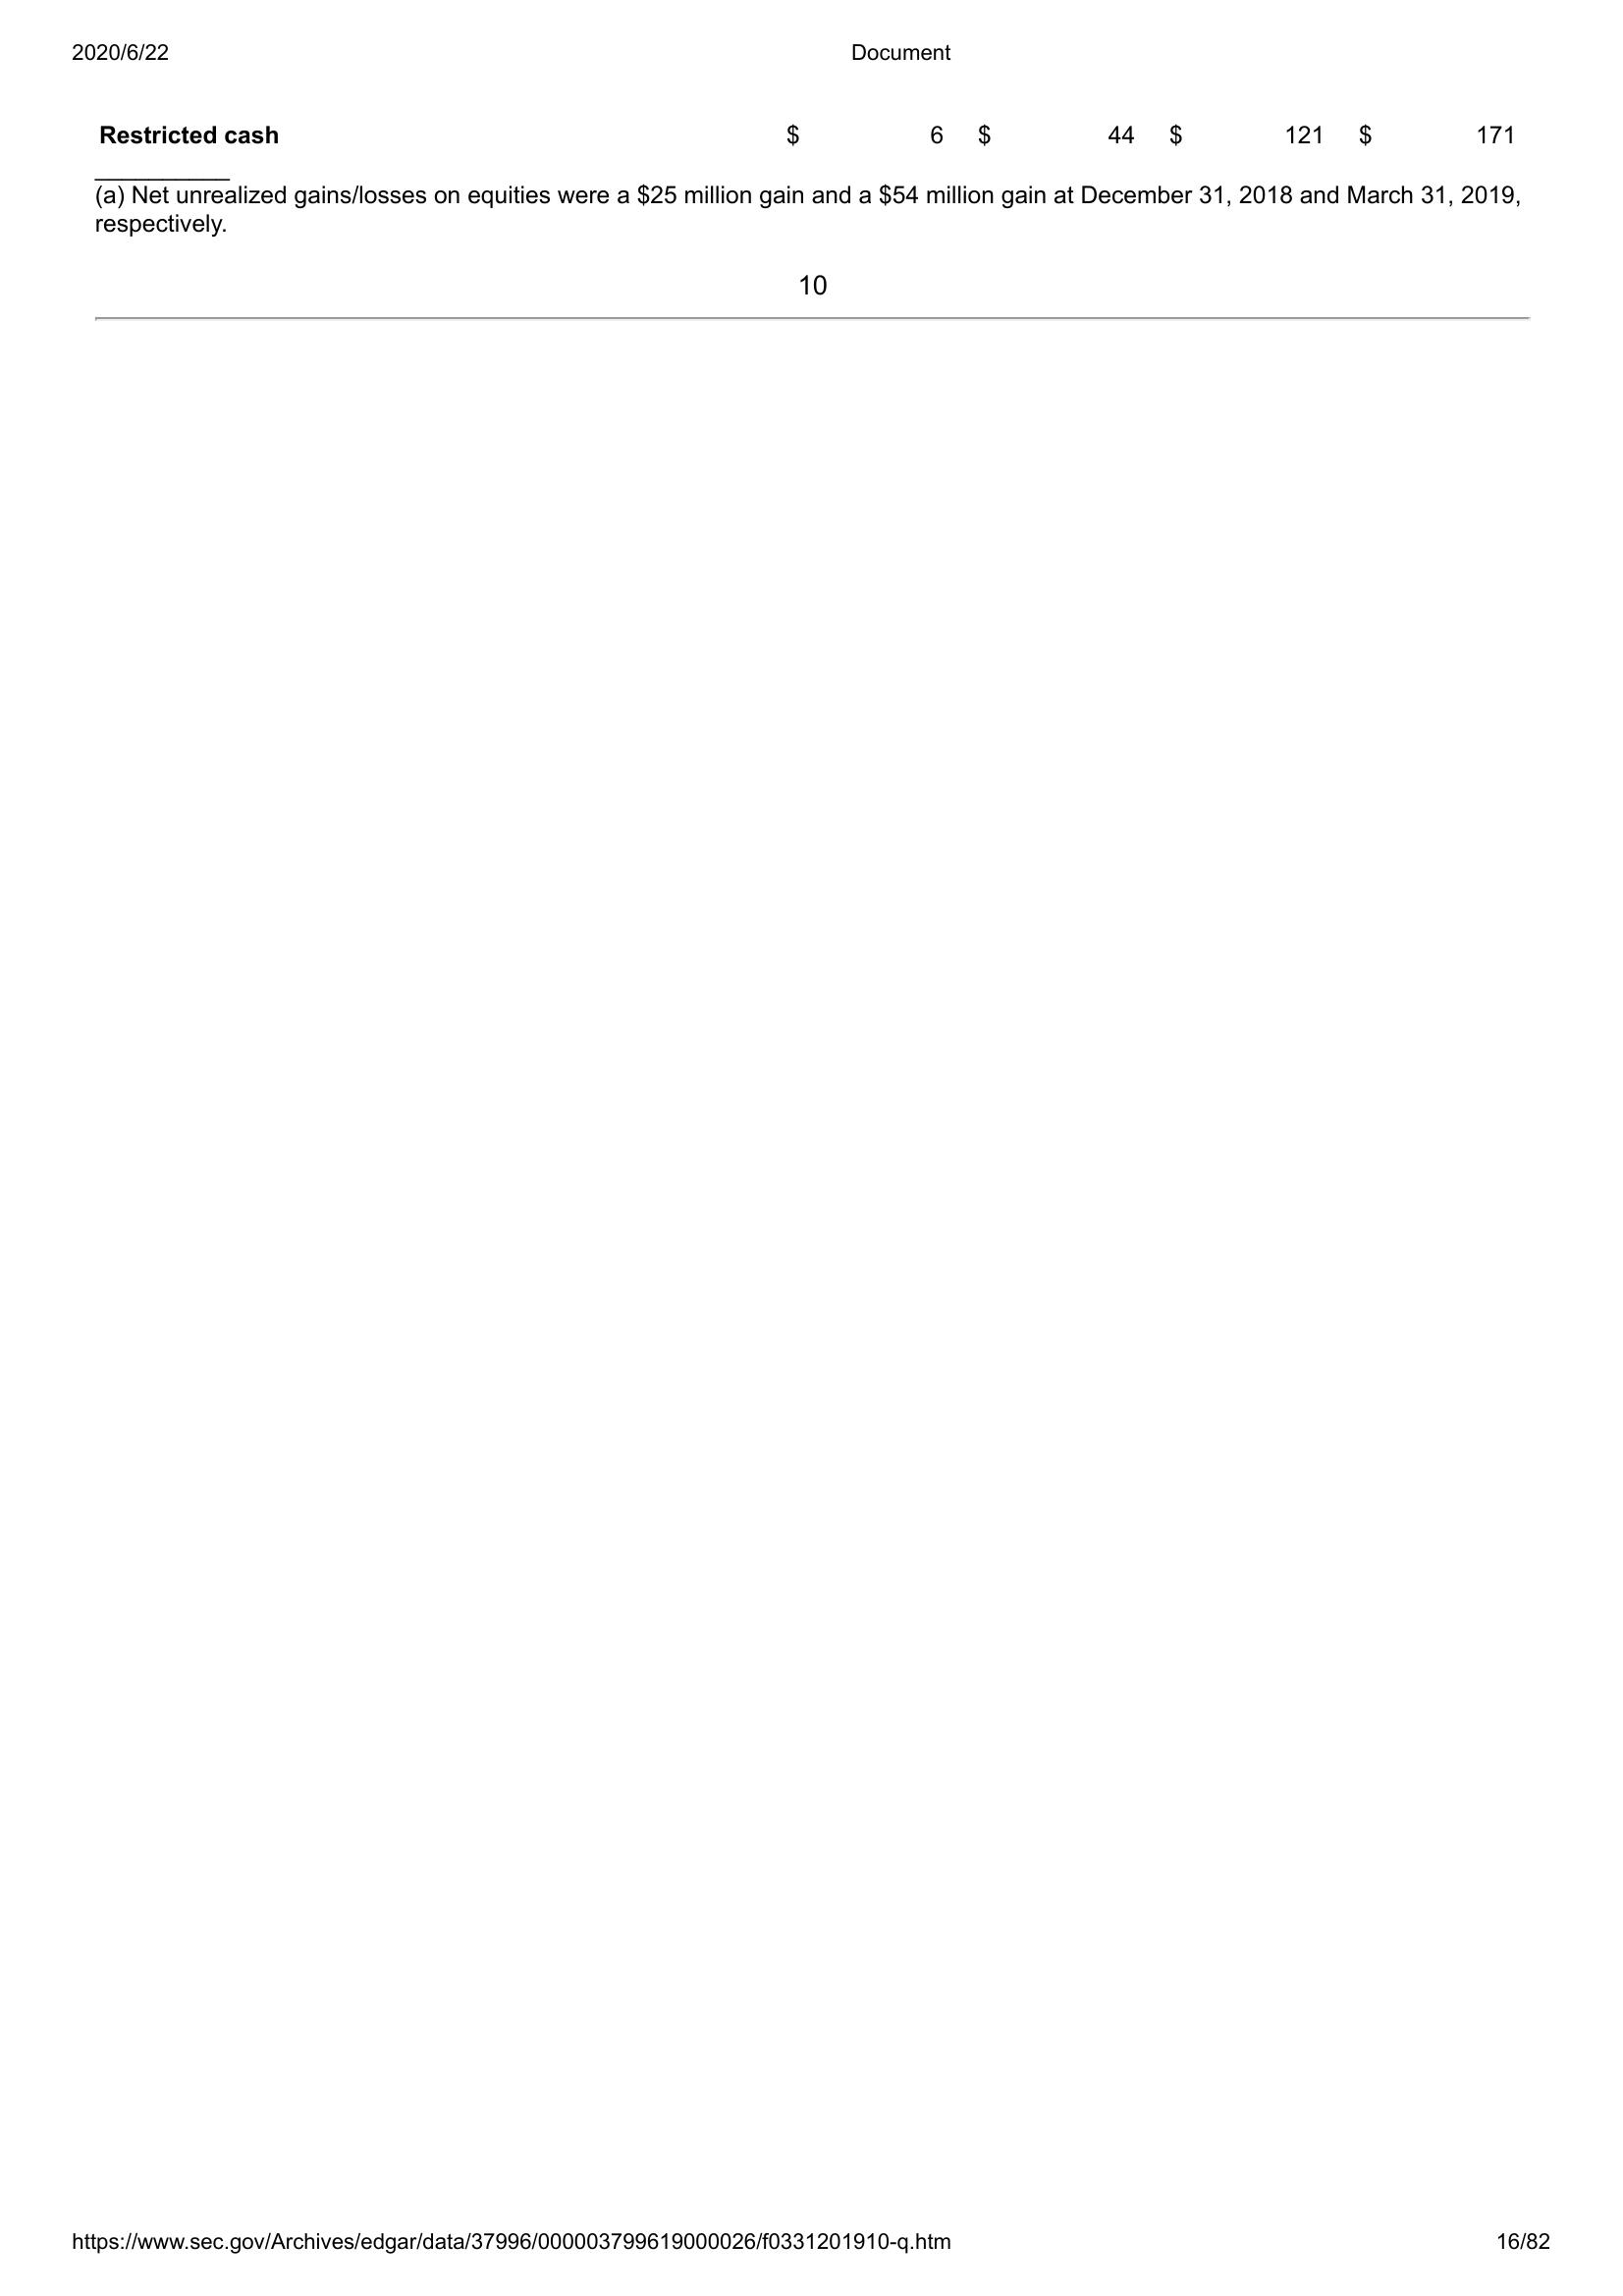table: (90, 84, 1540, 184)
